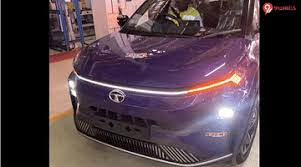Tata Nexon: (66, 1, 260, 165)
